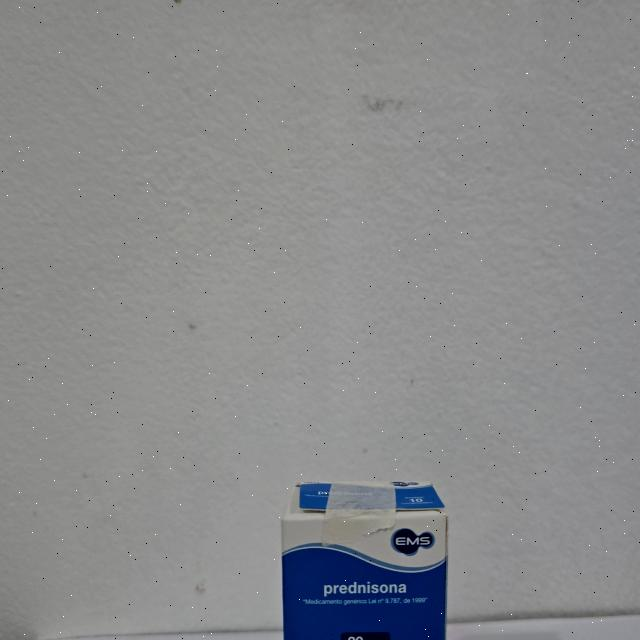prednisona: (276, 476, 452, 640)
